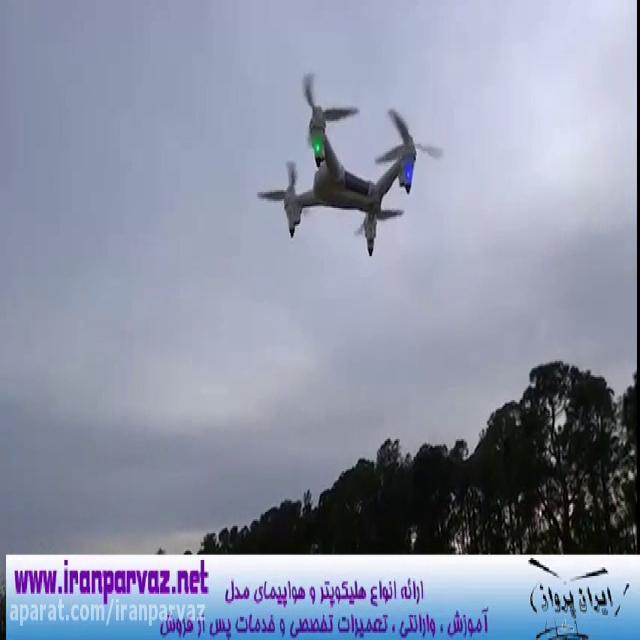drone: (252, 66, 447, 261)
